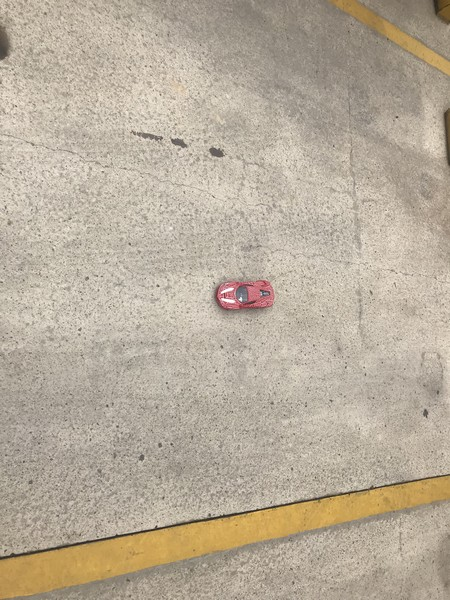RC: (214, 278, 278, 312)
